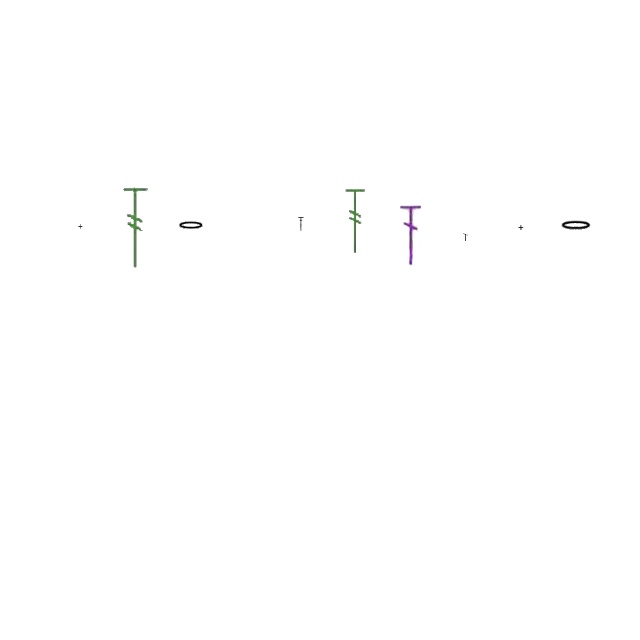chain: (559, 220, 593, 232), (177, 220, 205, 232)
double: (78, 224, 84, 230), (518, 226, 524, 230)
double treble: (400, 202, 422, 266), (298, 217, 304, 231)
enseble_chain: (464, 233, 468, 241)
fan: (120, 184, 152, 272), (344, 187, 368, 255)
